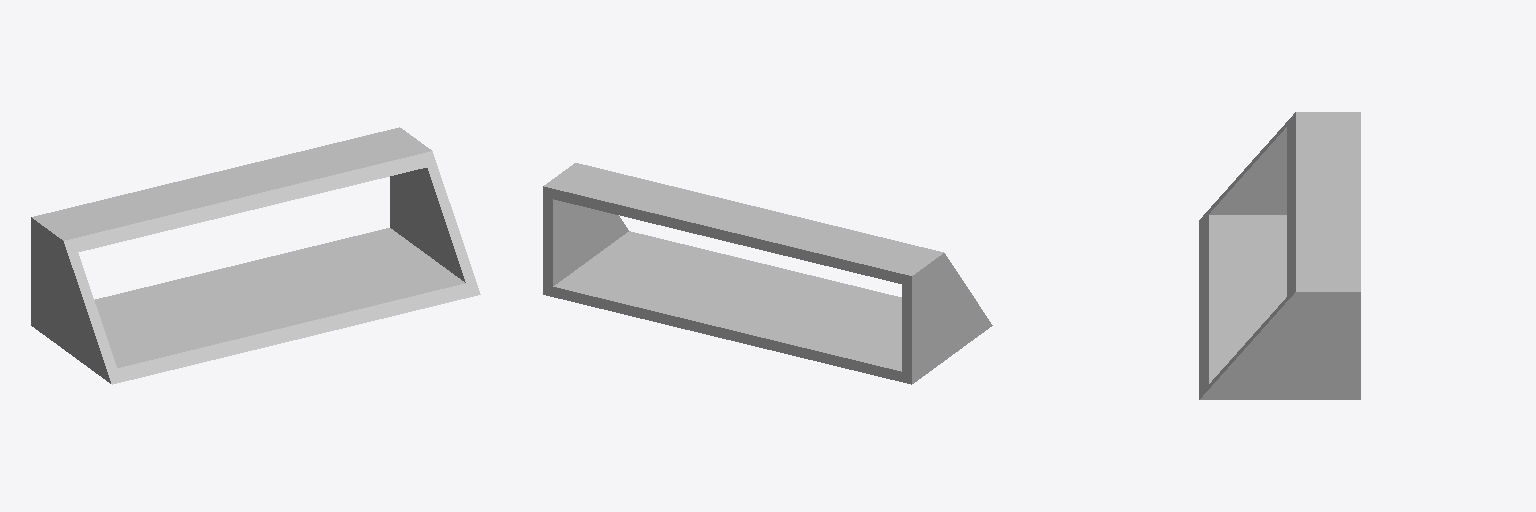
The model's file is WallShelf_HRect.obj.
3 renders of one model, left to right at view 1: azimuth 30°, elevation 25°; view 2: azimuth 150°, elevation 25°; view 3: azimuth 270°, elevation 25°, orthographic.
Visible parts, largest first — view 1: WallShelf_HRect; view 2: WallShelf_HRect; view 3: WallShelf_HRect.
Boxes of the visible parts, box(x1,y1,x2,y2) form: WallShelf_HRect: box(31, 127, 480, 384); WallShelf_HRect: box(543, 163, 992, 384); WallShelf_HRect: box(1199, 112, 1360, 399).
Bounding box in the file's own units: 1.16 × 0.3266 × 0.4408.